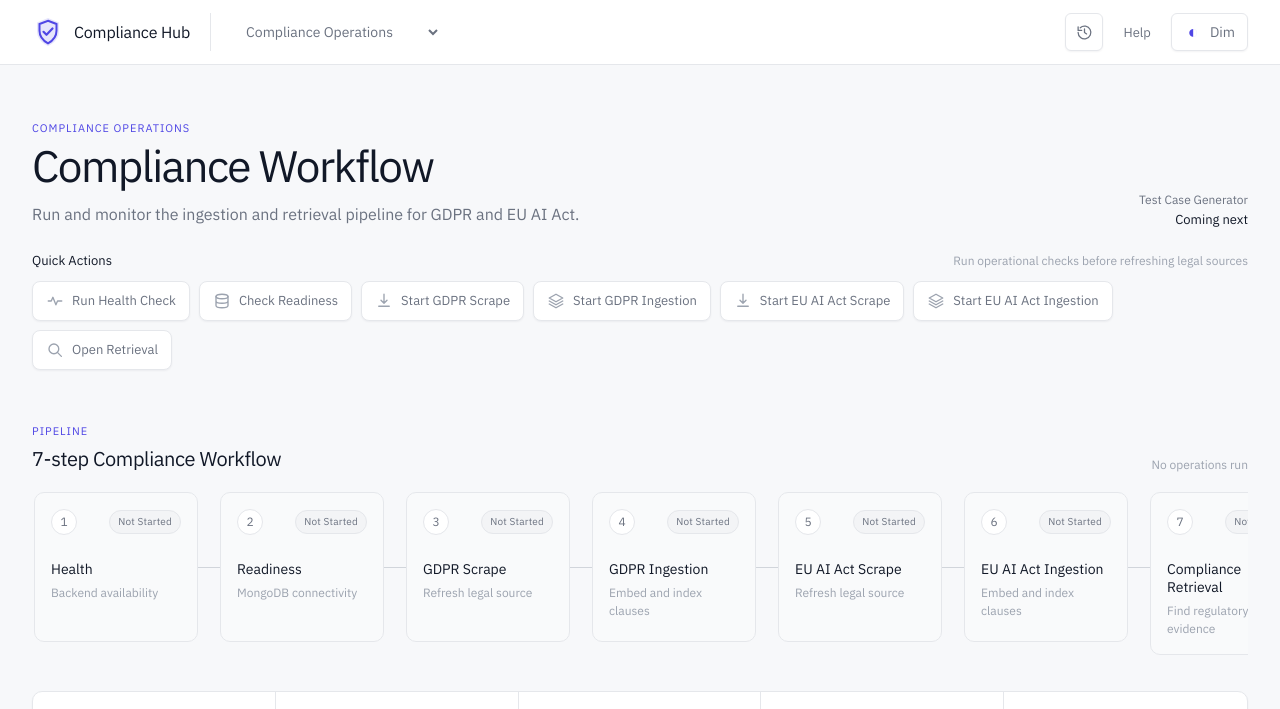
Trust & Usage › is available from Help and states every required usage boundary
Click the button with aria-label "Open Trust & Usage".
click(1137, 32)  # box [1112, 13, 1163, 51]
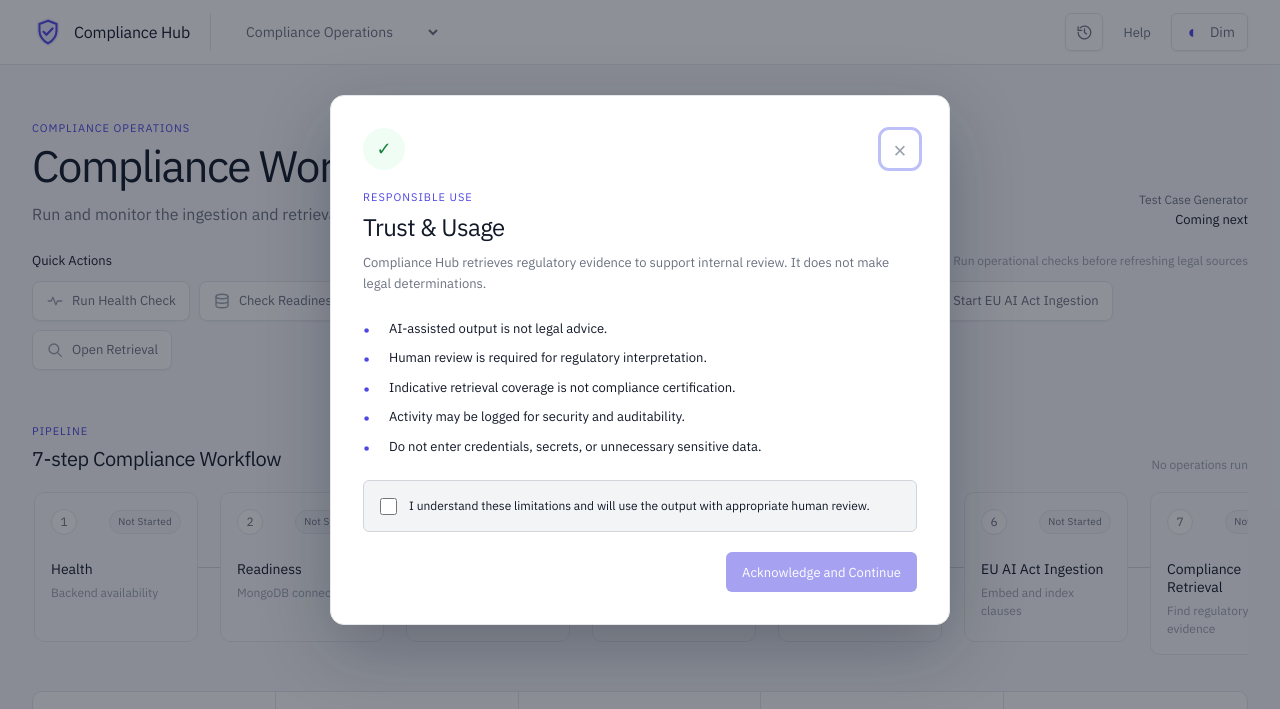
Expected: the dialog "Trust & Usage" is shown, [330, 95, 950, 625]
Expected: the list item "AI-assisted output is not legal advice." is shown, [389, 320, 607, 336]
Expected: the list item "Human review is required for regulatory interpretation." is shown, [389, 349, 707, 366]
